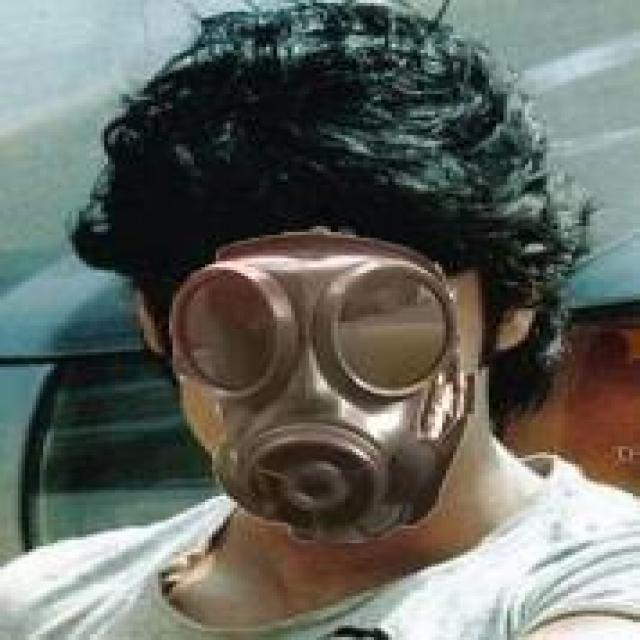mask: (97, 53, 539, 558)
